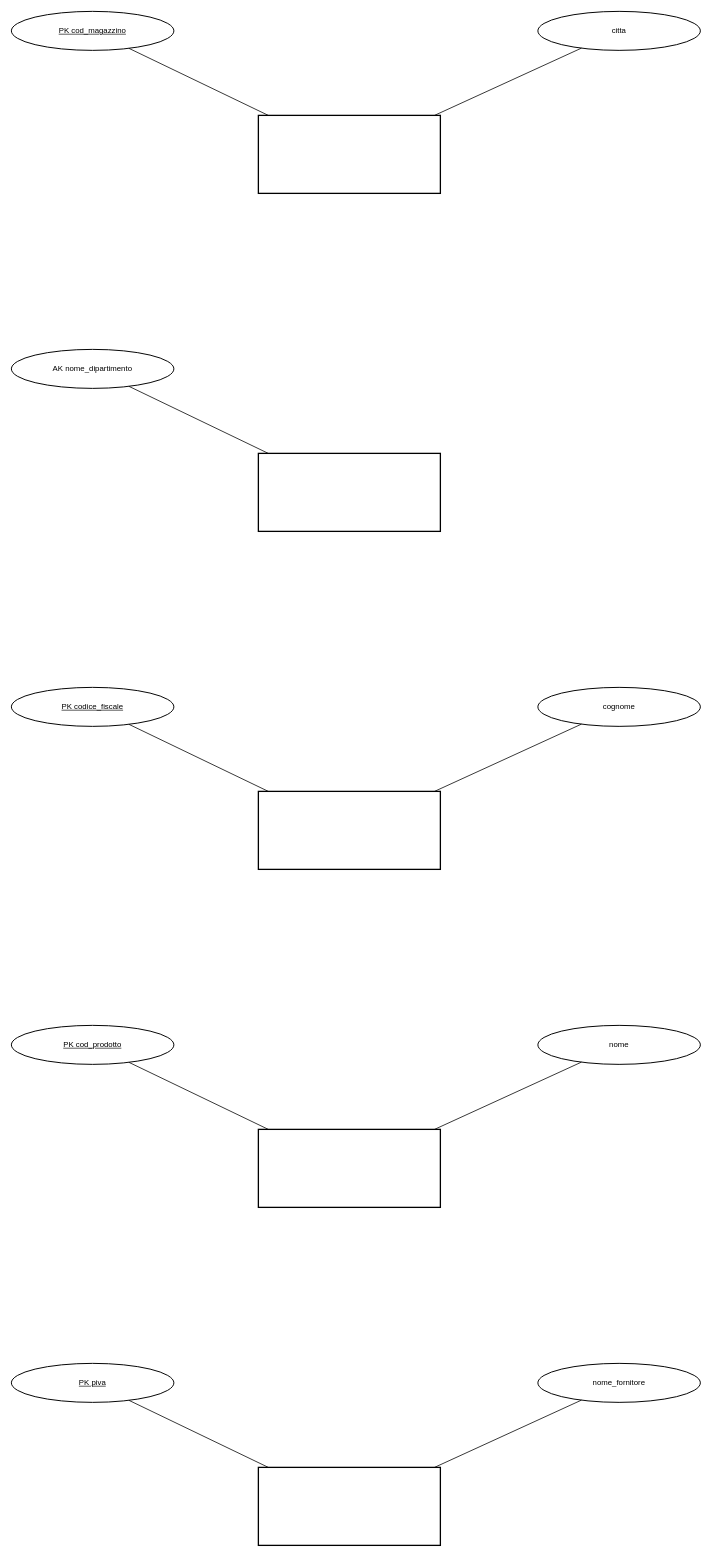
This 712x1557 diagram has some shape labels left out. The shapes that lost their labels are listed below. From the top down, each one's centre as x and y in pixels, then its label:
At pixel 349 154: "MAGAZZINO".
At pixel 349 492: "DIPARTIMENTO".
At pixel 349 830: "IMPIEGATO".
At pixel 349 1168: "PRODOTTO".
At pixel 349 1506: "FORNITORE".
